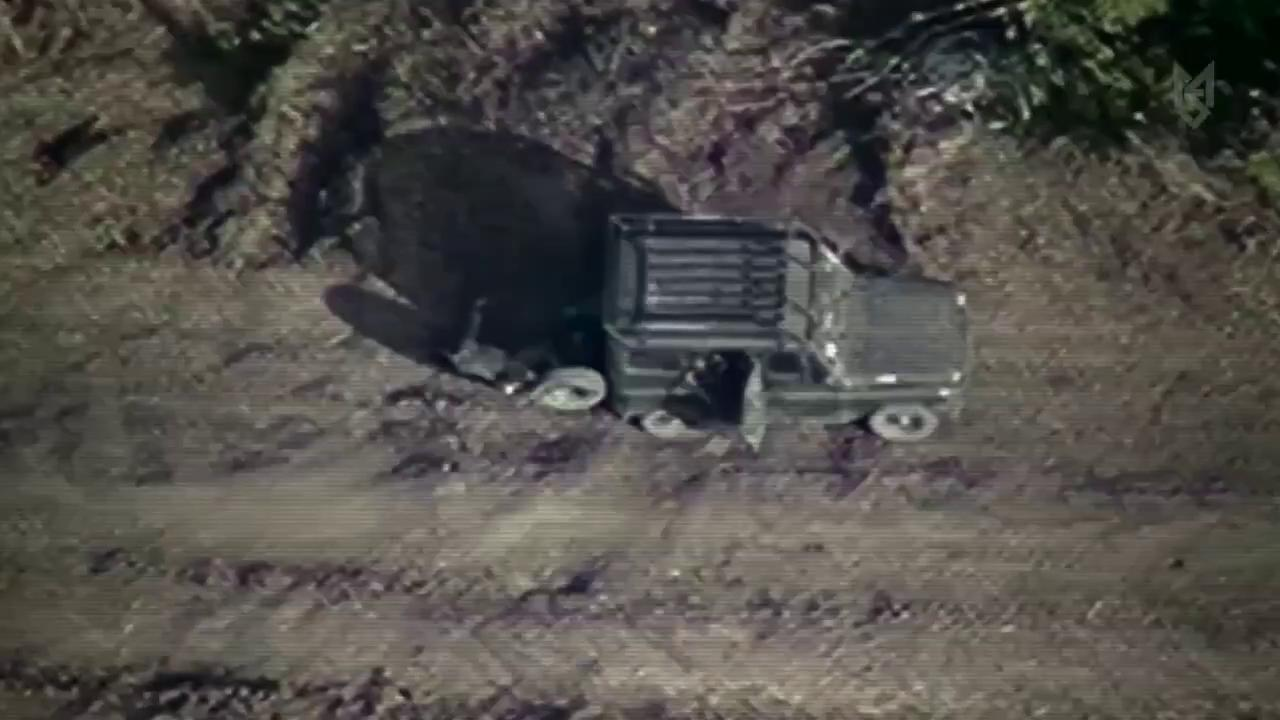tank: (601, 206, 978, 451)
